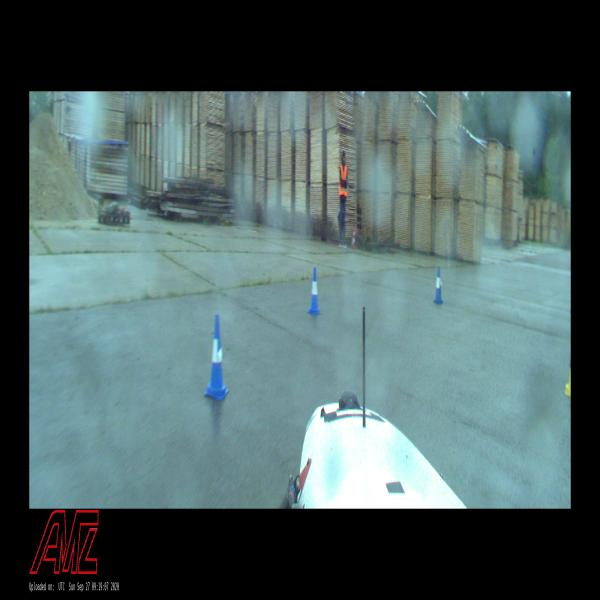blue_cone: (204, 314, 228, 399), (307, 267, 322, 314), (433, 266, 443, 304)
yellow_cone: (565, 358, 570, 396)
